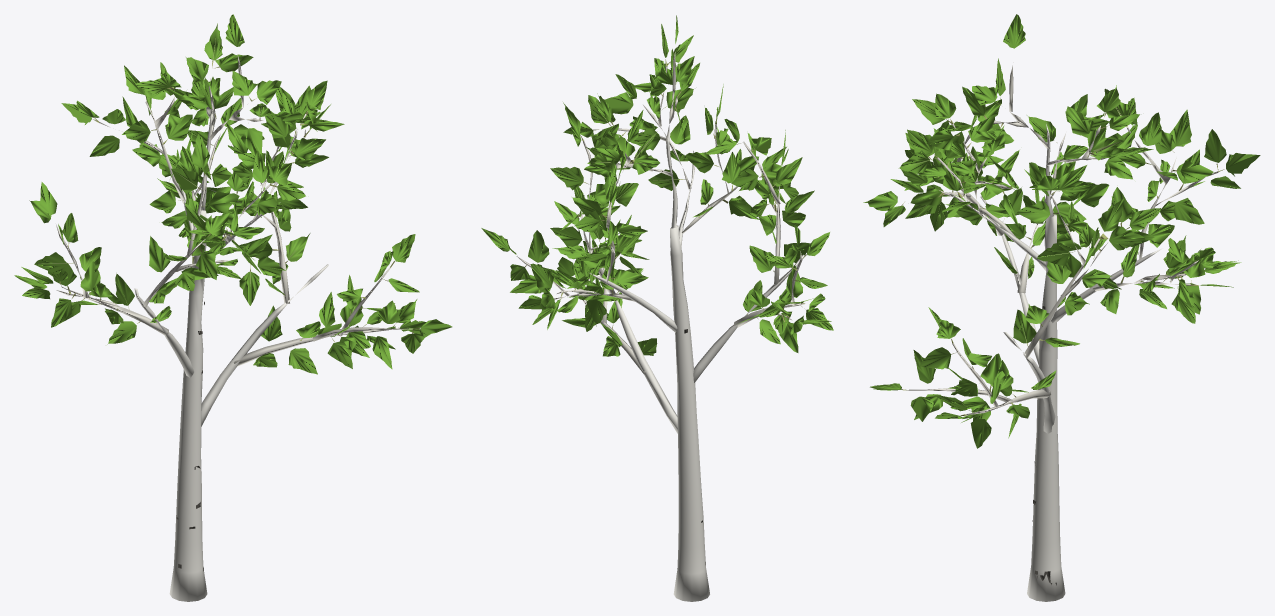
The model's file is 9_2_mid.glb.
3 renders of one model, left to right at view 1: azimuth 30°, elevation 25°; view 2: azimuth 150°, elevation 25°; view 3: azimuth 270°, elevation 25°, orthographic. The views are drawn at different scales.
Parts seen in each view (by area): view 1: body; view 2: body; view 3: body.
Boxes of the visible parts, left/top/right/bottom form: body: left=14, top=14, right=452, bottom=601; body: left=481, top=15, right=833, bottom=601; body: left=863, top=14, right=1260, bottom=601.
Size of the model in its own units: 2.35 by 3.7 by 2.25.
Materials: 1 (1 with a texture image).
